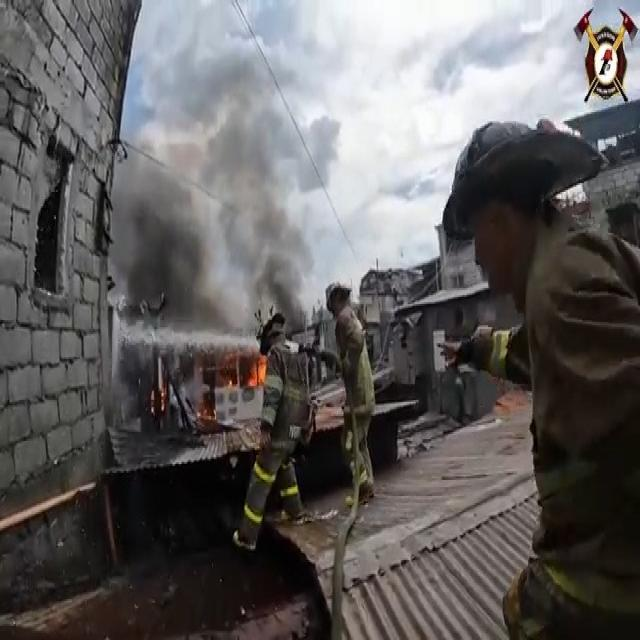Fire: (213, 350, 271, 393)
Smoke: (109, 146, 245, 344), (208, 108, 314, 332)
